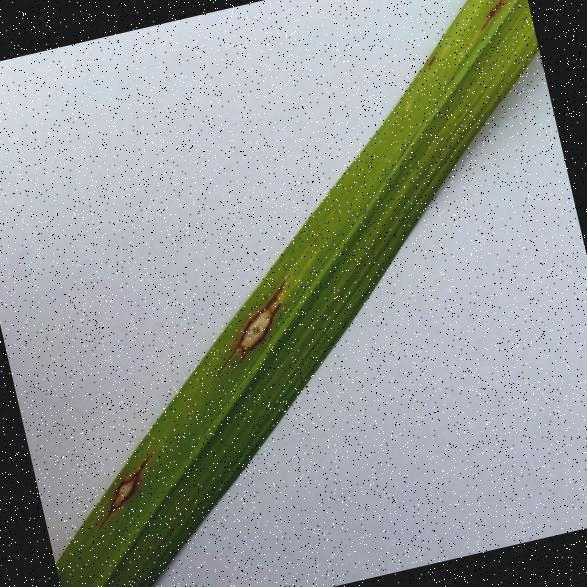Leaf_smut: (184, 238, 306, 378), (66, 425, 184, 542), (460, 0, 532, 36)
